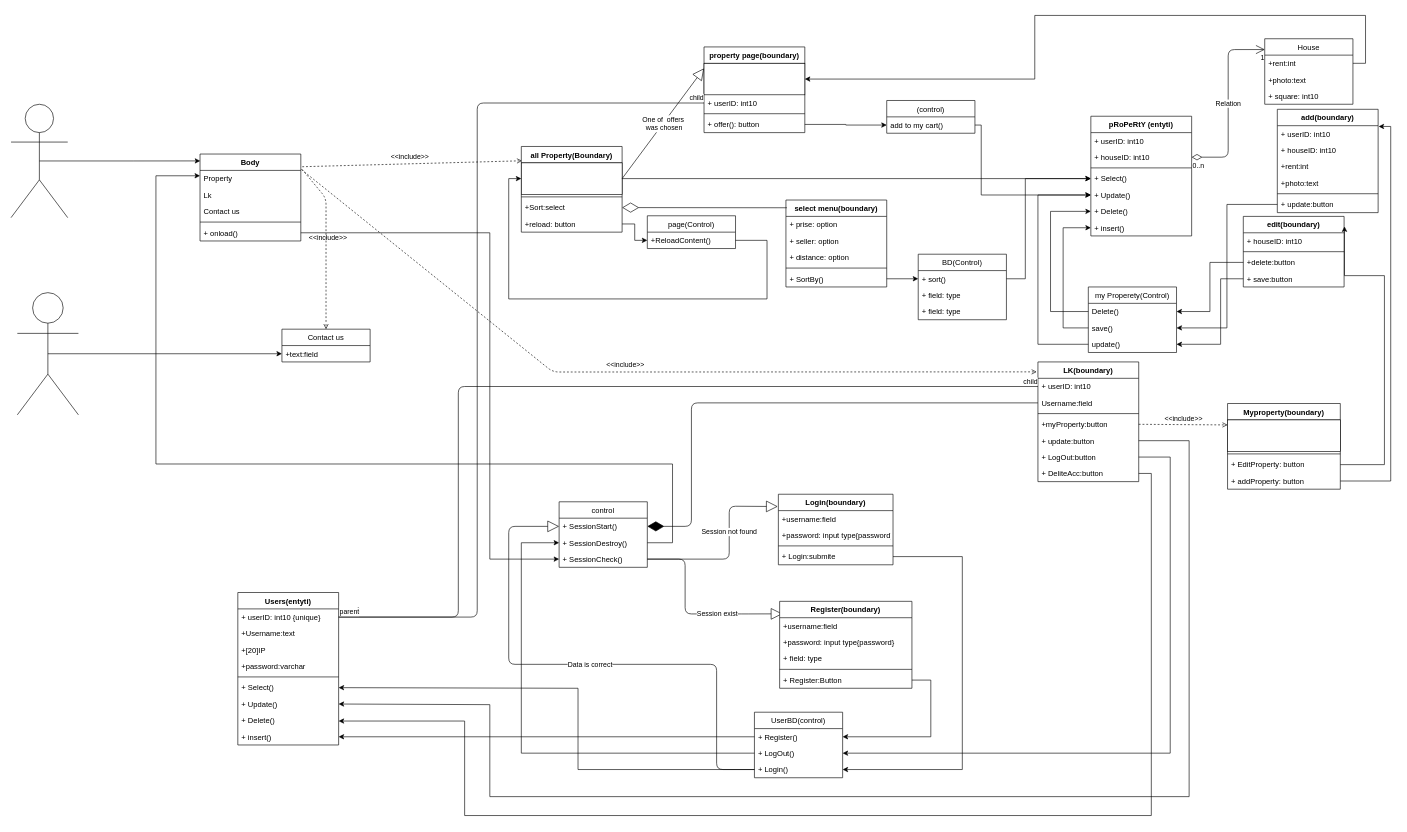
Some shapes in this 1407 by 832 pixel diagram are drawn without their labels. The centre of each missing label's shape, as x and y in pixels:
"Display all property" goes at (571,178).
"Display this propery" goes at (754,79).
"My properrty" goes at (1283,435).
"Важный Чел" goes at (47,353).
"Пользователь" goes at (39,161).
